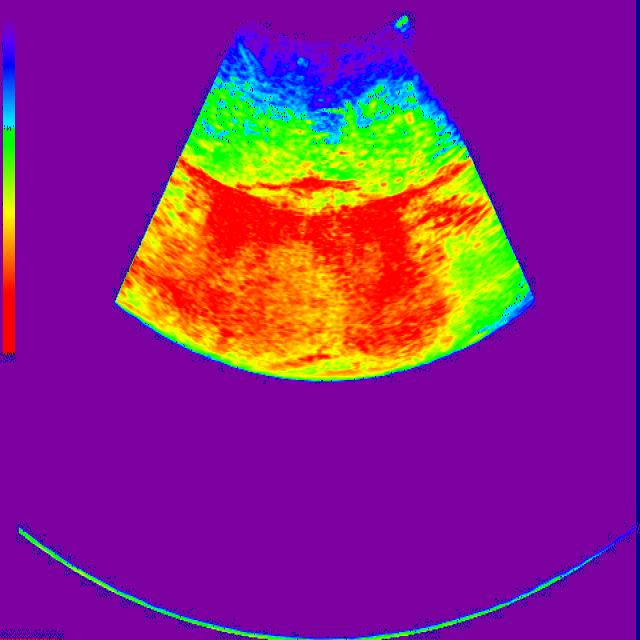lamb liver pre: (242, 113, 370, 186)
